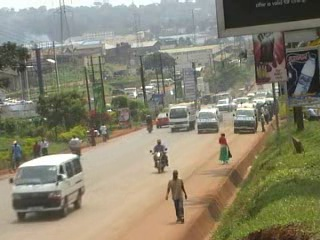Car: (155, 109, 172, 129), (214, 97, 232, 113), (228, 97, 238, 109)
Motorcycle: (149, 145, 171, 174), (143, 113, 153, 137)
